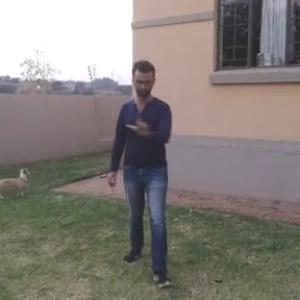land_hand: (126, 107, 155, 139)
